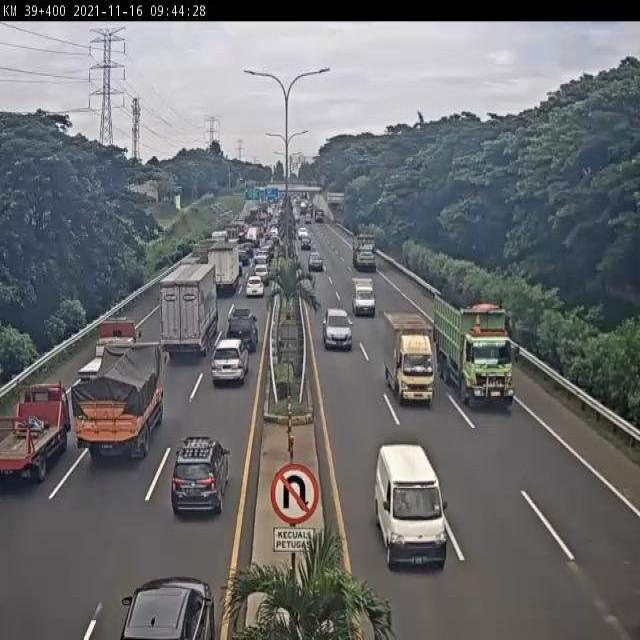car: (376, 444, 448, 569), (172, 438, 231, 518), (225, 309, 259, 359), (211, 341, 246, 387), (323, 306, 353, 350), (244, 278, 263, 298)
small truck: (0, 385, 71, 483), (382, 311, 435, 405), (76, 317, 137, 380), (351, 279, 378, 320)
truck-l-: (435, 289, 517, 407), (158, 264, 218, 364)
truck-m-: (73, 341, 167, 460), (205, 241, 242, 295)
